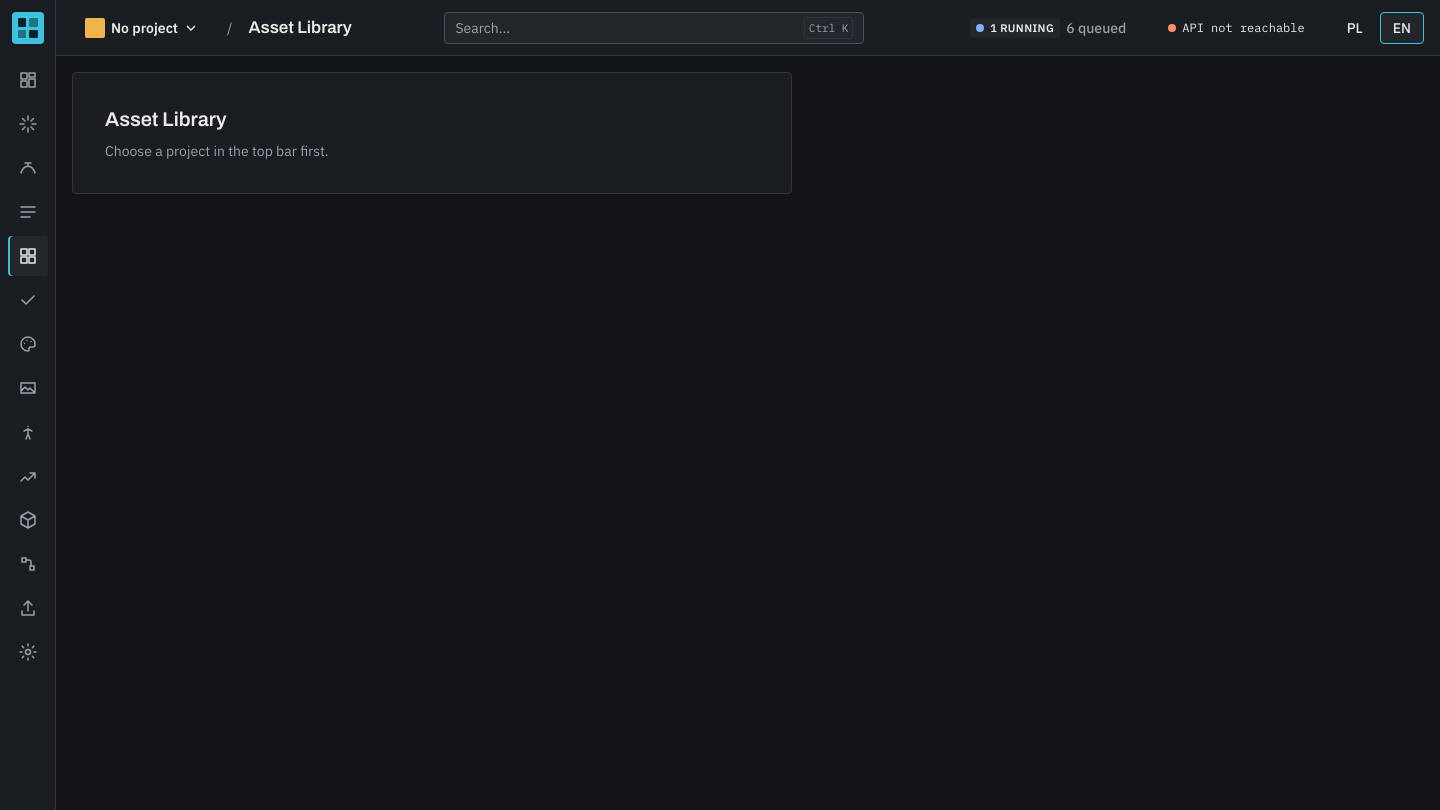
Test: app shell › switches the language at runtime and remembers it (FR-125)
The width and height of the screenshot is (1440, 810).
Check: the heading "Asset Library" in the row of "1 running" is shown, box [248,16,352,40]
Click the button "PL".
click(1355, 28)  # box [1334,12,1376,44]
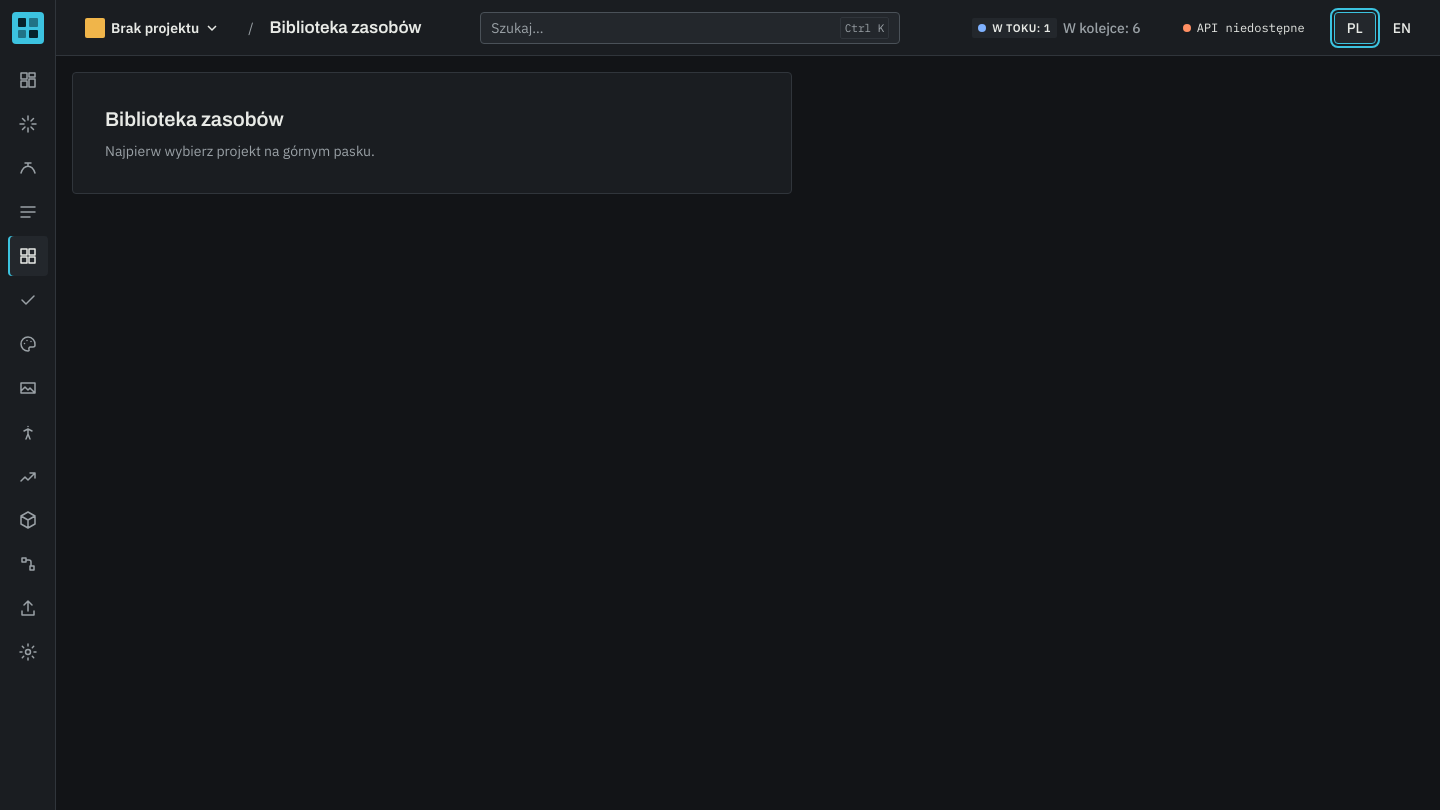
Check: the heading "Biblioteka zasobów" in the row of "W toku: 1" is shown, box [270,16,422,40]
